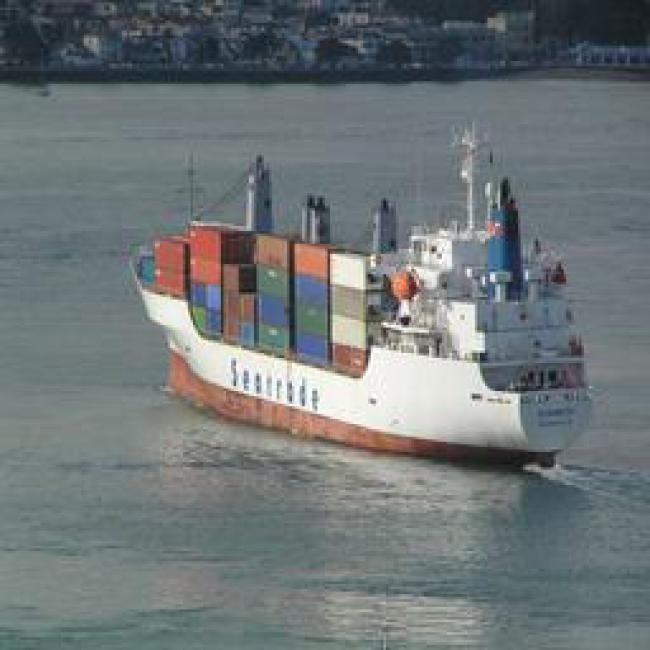Ship: (133, 193, 621, 490)
